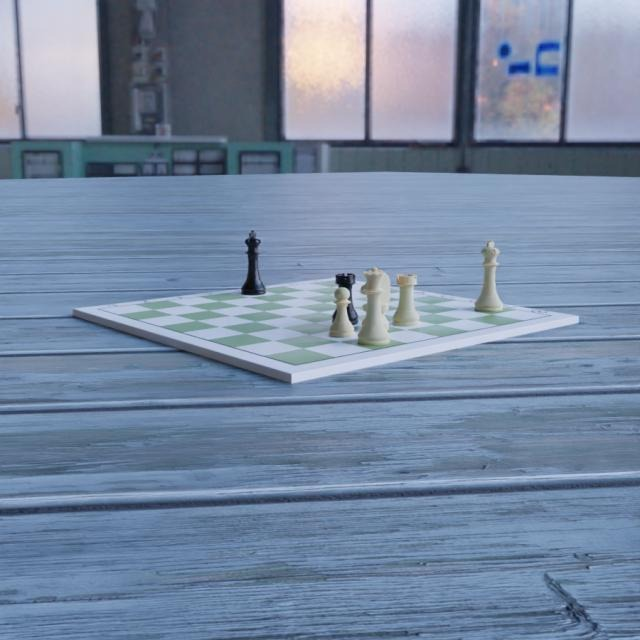black-king: (240, 228, 267, 295)
black-rook: (329, 272, 358, 324)
white-king: (471, 238, 504, 313)
white-knight: (358, 267, 390, 333)
white-pawn: (327, 285, 357, 339)
white-queen: (356, 265, 392, 347)
white-rook: (391, 271, 422, 328)
